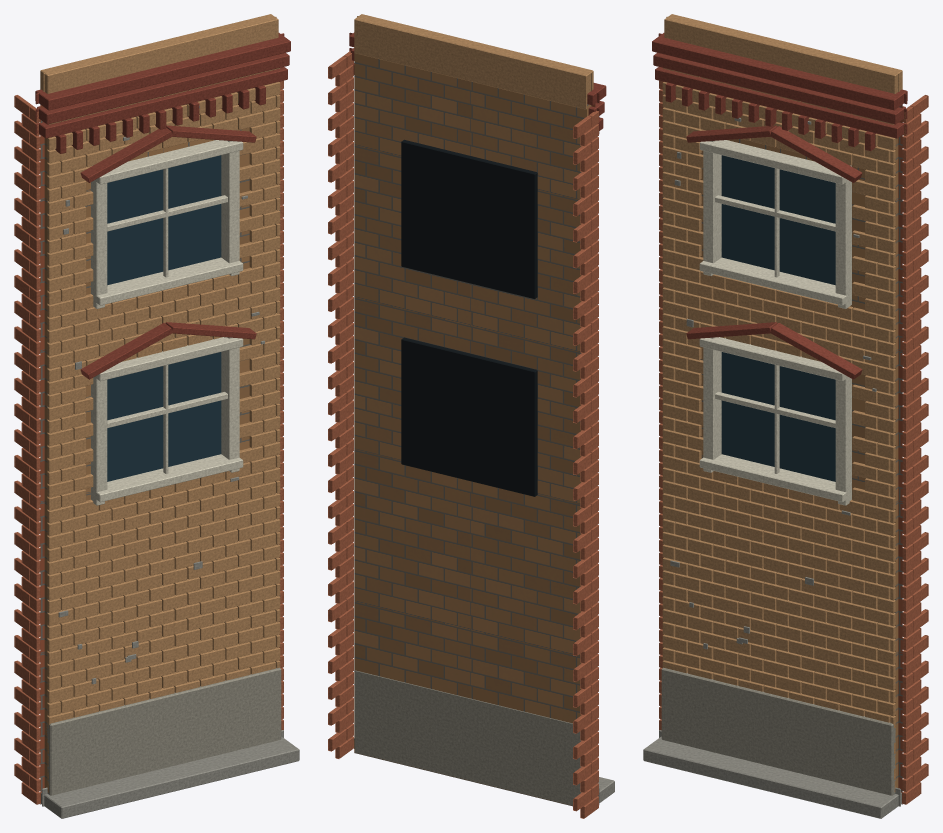
Rendered from VICT19_lod0.glb.
The picture shows the model from 3 angles, left to right: view 1: azimuth 30°, elevation 25°; view 2: azimuth 150°, elevation 25°; view 3: azimuth 330°, elevation 25°; orthographic projection.
Visible parts, largest first — view 1: VICT19_FRONT_LOD0; view 2: VICT19_FRONT_LOD0; view 3: VICT19_FRONT_LOD0.
Boxes of the visible parts, x1=… form: VICT19_FRONT_LOD0: x1=14, y1=14, x2=299, y2=818; VICT19_FRONT_LOD0: x1=328, y1=14, x2=614, y2=818; VICT19_FRONT_LOD0: x1=643, y1=14, x2=928, y2=818.
Size of the model in its own units: 3.44 by 9.66 by 1.02.
15 materials, 13 textured.
